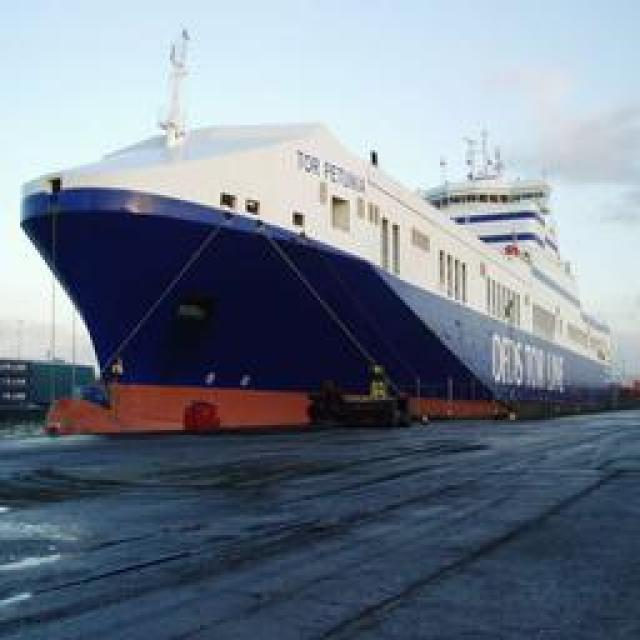CIV_Ship: (22, 106, 628, 429)
